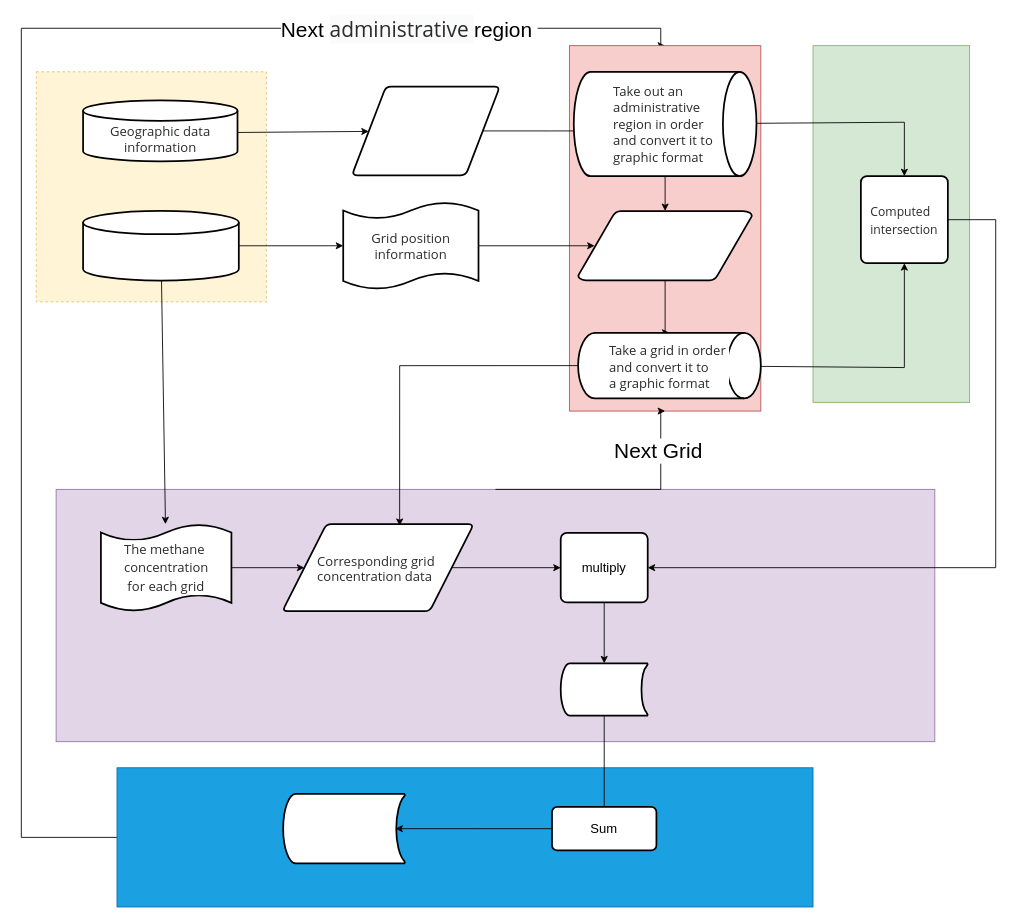
Image size: 1018x922. Some labels were removed from this diagram. Here are the shapes that lost their labels. From the top down, the centre of each, then its label:
the point at 425,130: Multiple administrative districts
the point at 160,245: Methane grid information
the point at 665,245: Take the grid that may intersect this region
the point at 603,689: save data
the point at 343,828: The total amount of methane in a district
